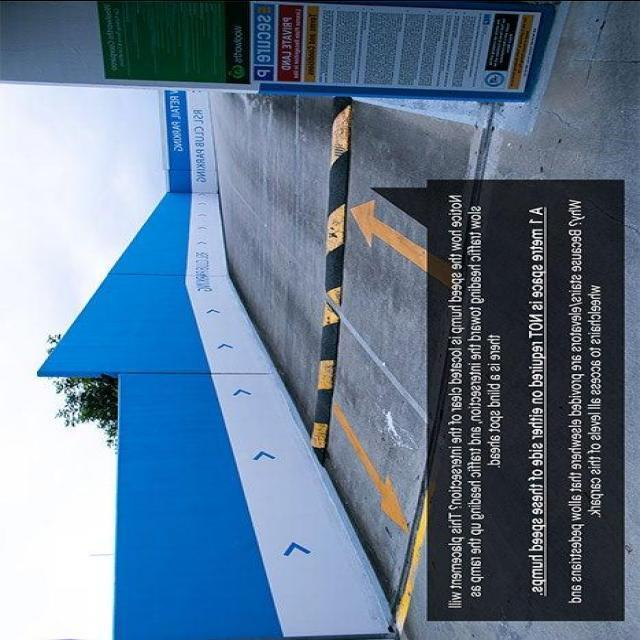speedbreaker: (284, 87, 378, 465)
